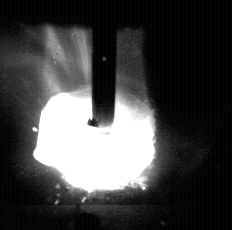arame: (89, 0, 116, 135)
poca: (35, 0, 155, 230)
